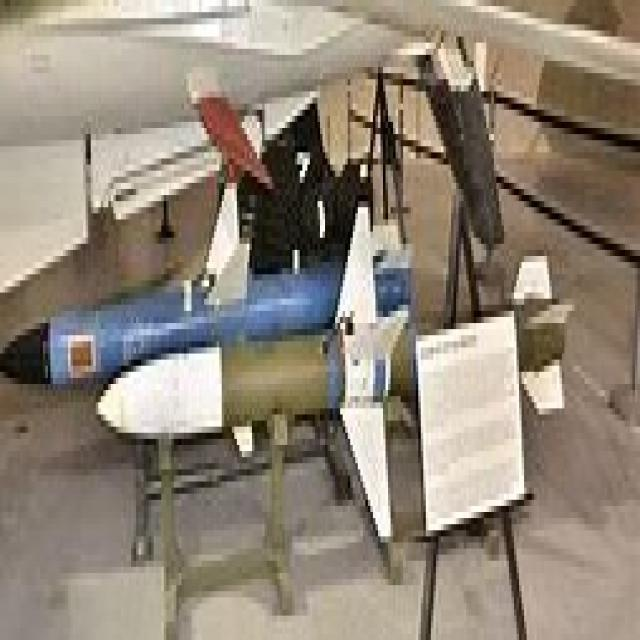missile: (109, 204, 606, 540), (4, 182, 406, 442)
